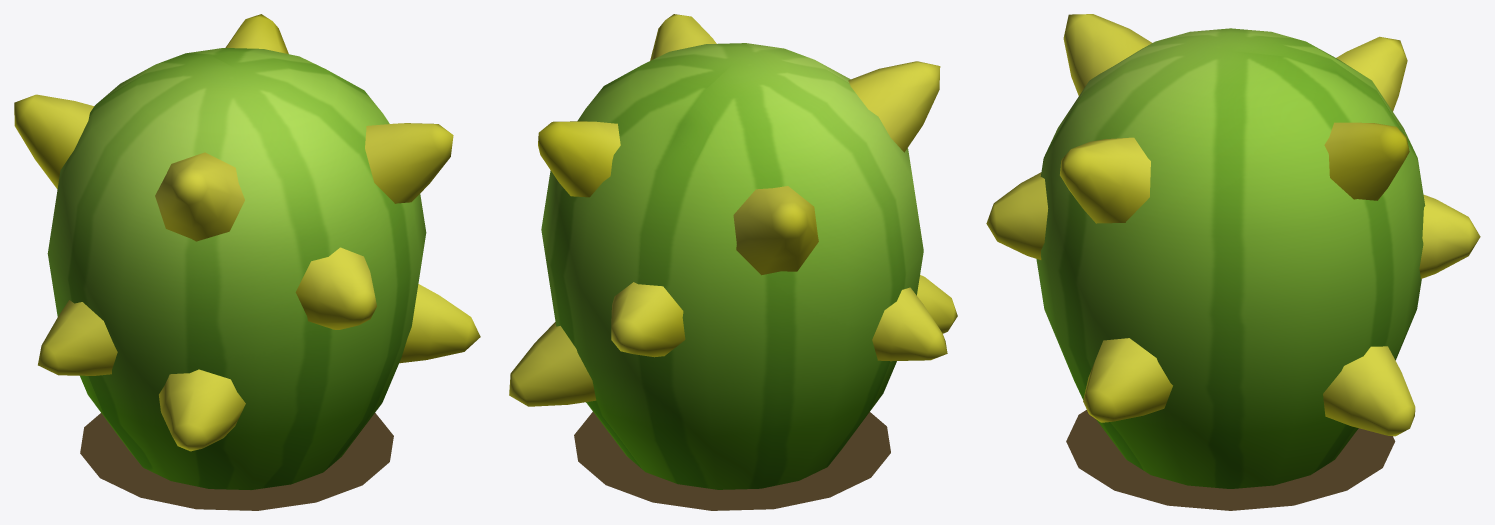
The model's file is Mu_Cactus01.fbx.
The picture shows the model from 3 angles, left to right: view 1: azimuth 30°, elevation 25°; view 2: azimuth 150°, elevation 25°; view 3: azimuth 270°, elevation 25°; orthographic projection. The views are drawn at different scales.
Visible parts, largest first — view 1: Mu_cactus01, Mu_cactus01_shadow; view 2: Mu_cactus01, Mu_cactus01_shadow; view 3: Mu_cactus01, Mu_cactus01_shadow.
Boxes of the visible parts, left/top/right/bottom form: Mu_cactus01: left=14, top=14, right=480, bottom=489; Mu_cactus01_shadow: left=80, top=413, right=393, bottom=510; Mu_cactus01: left=509, top=14, right=957, bottom=489; Mu_cactus01_shadow: left=574, top=412, right=890, bottom=510; Mu_cactus01: left=986, top=14, right=1480, bottom=488; Mu_cactus01_shadow: left=1066, top=410, right=1395, bottom=510.
Bounding box in the file's own units: 89.76 × 84.03 × 96.38.
Materials: 2 (1 with a texture image).
